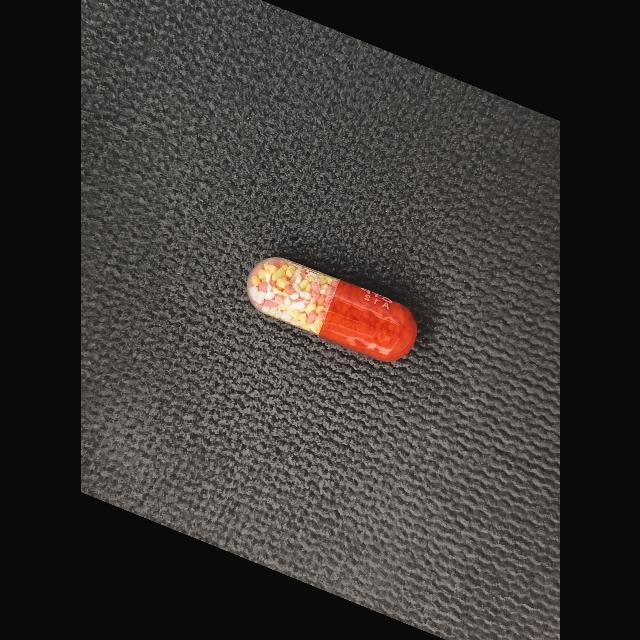Intact Capsule: (246, 257, 417, 361)
